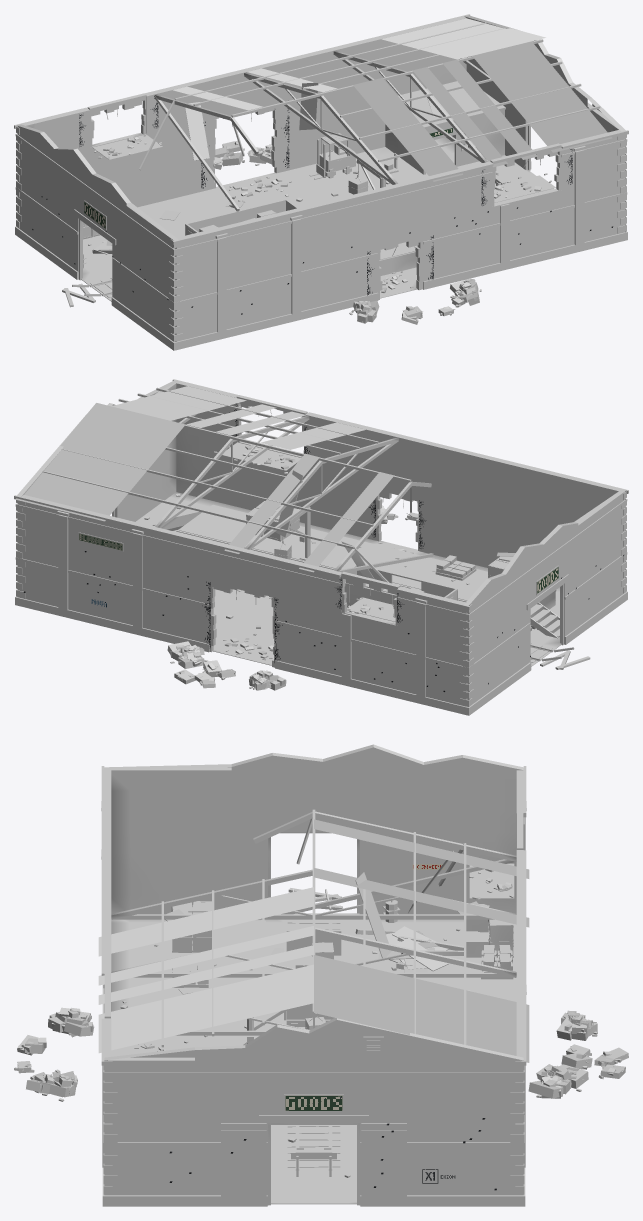
File: depot.glb
3 renders of one model, top to bottom at view 1: azimuth 30°, elevation 25°; view 2: azimuth 150°, elevation 25°; view 3: azimuth 270°, elevation 25°, orthographic. The views are drawn at different scales.
Parts seen in each view (by area): view 1: depot; view 2: depot; view 3: depot.
Boxes of the visible parts, x1,y1,x2,y2 form: depot: [14, 14, 628, 350]; depot: [14, 379, 628, 715]; depot: [14, 744, 628, 1206].
Bounding box in the file's own units: 32.73 × 9.55 × 26.86.
4 materials, 3 textured.
